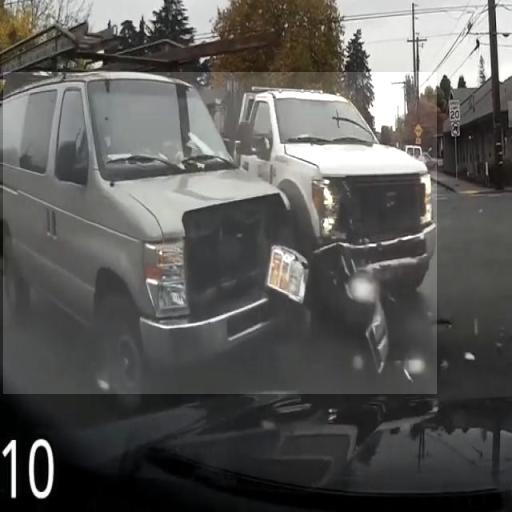小汽车撞小汽车: (3, 72, 437, 394)
